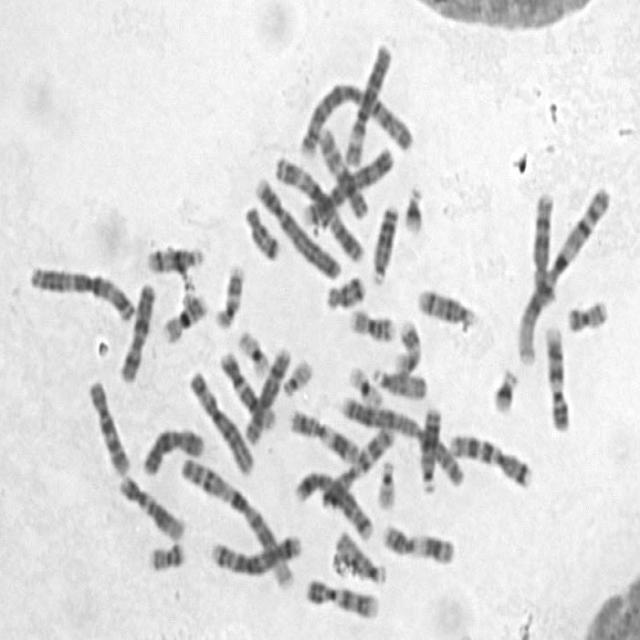A1: (512, 180, 614, 367), (177, 450, 297, 590)
A2: (334, 389, 467, 488), (294, 76, 415, 158)
A3: (271, 152, 366, 264), (25, 257, 138, 324)
B4: (251, 168, 345, 280), (300, 142, 396, 228)
B5: (290, 464, 374, 542), (205, 527, 304, 578)
C10: (316, 121, 371, 221), (83, 373, 132, 478)
C11: (285, 402, 362, 464), (378, 518, 458, 565)
C12: (216, 344, 278, 432), (115, 468, 187, 542)
C6: (185, 364, 256, 478), (340, 36, 394, 168)
C7: (317, 421, 397, 512), (446, 427, 535, 491)
C8: (240, 342, 292, 446), (528, 185, 558, 306)
C9: (301, 570, 382, 620), (542, 319, 574, 433)
D13: (367, 197, 402, 285), (417, 401, 444, 495)
D14: (413, 281, 479, 329), (142, 239, 206, 275)
D15: (330, 526, 388, 586), (370, 360, 429, 401)
E16: (158, 286, 209, 346), (346, 302, 398, 344)
E17: (211, 258, 246, 330), (389, 314, 424, 374)
E18: (241, 199, 282, 262), (322, 269, 367, 311)
F19: (344, 358, 385, 408), (234, 324, 271, 378)
F20: (562, 292, 611, 334), (144, 535, 187, 573)
G21: (488, 361, 522, 417), (400, 178, 426, 235)
G22: (278, 352, 315, 397), (373, 454, 398, 512)
X: (115, 276, 158, 384), (139, 420, 207, 477)
